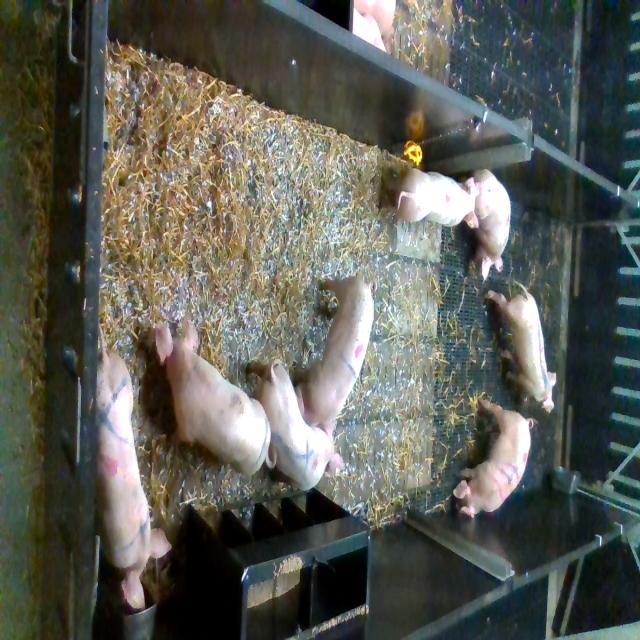pig: (95, 322, 172, 608), (156, 314, 277, 477), (246, 358, 345, 490), (293, 277, 378, 423), (453, 397, 534, 518), (484, 280, 557, 413), (380, 169, 481, 229), (474, 169, 511, 282)
